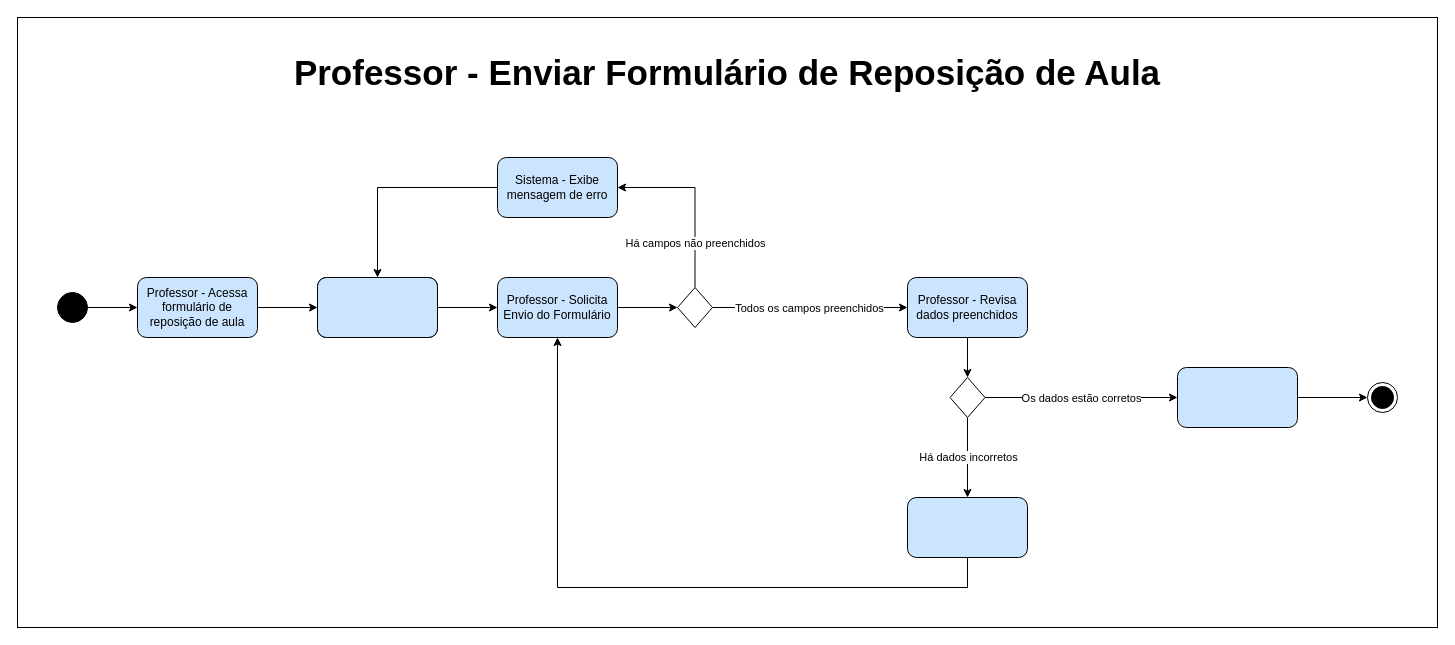
This 1455x645 diagram has some shape labels left out. The shapes that lost their labels are listed below. From the top down, each one's centre as x and y in pixels, then its label:
At point (377, 307): "Professor - Preenche formulário".
At point (1237, 397): "Professor - Envia formulário para coordenador".
At point (967, 527): "Professor - Corrige campos preenchidos incorretamente".
